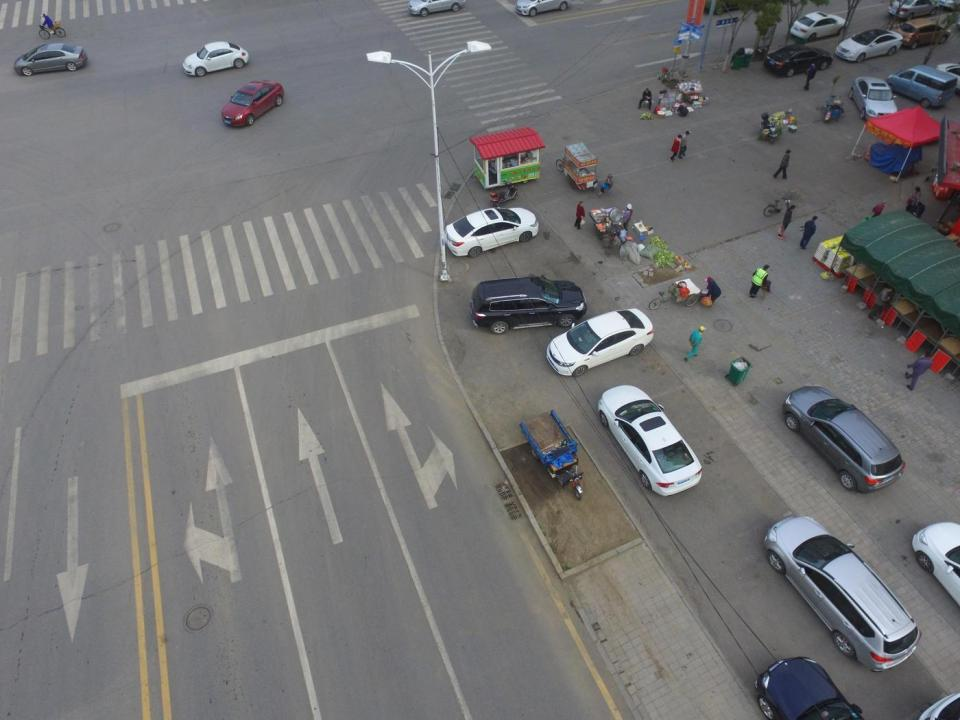car: (760, 515, 921, 673), (782, 385, 906, 491), (597, 388, 702, 499), (546, 308, 655, 378), (756, 658, 866, 718), (468, 278, 584, 332), (910, 520, 960, 635), (443, 207, 540, 261), (219, 79, 284, 128), (847, 77, 900, 124), (12, 43, 87, 76), (835, 28, 901, 65), (181, 41, 249, 76), (765, 46, 831, 78), (897, 18, 950, 49), (788, 12, 847, 39), (406, 0, 463, 20), (888, 0, 942, 19), (516, 0, 572, 16)
van: (888, 64, 954, 110)
